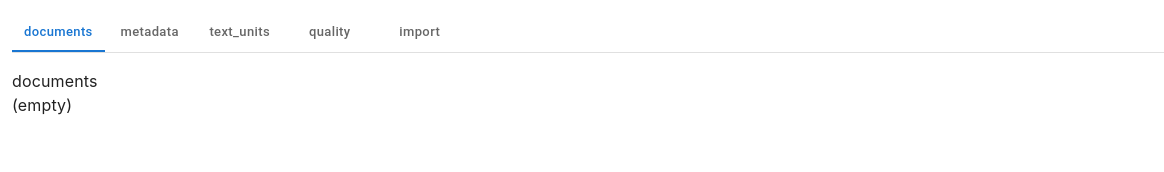
Test: Phase 7 workspace tab contracts › corpus tabs persist in the URL
Expected: the text with test id "tab-value" reads "documents", [12,71,98,91]
Click the tab "import" at (420, 32), box [375,12,465,52]
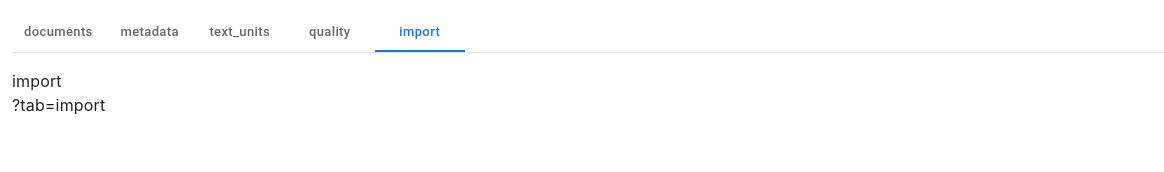
Expected: the text with test id "tab-value" reads "import", [12,71,62,91]
